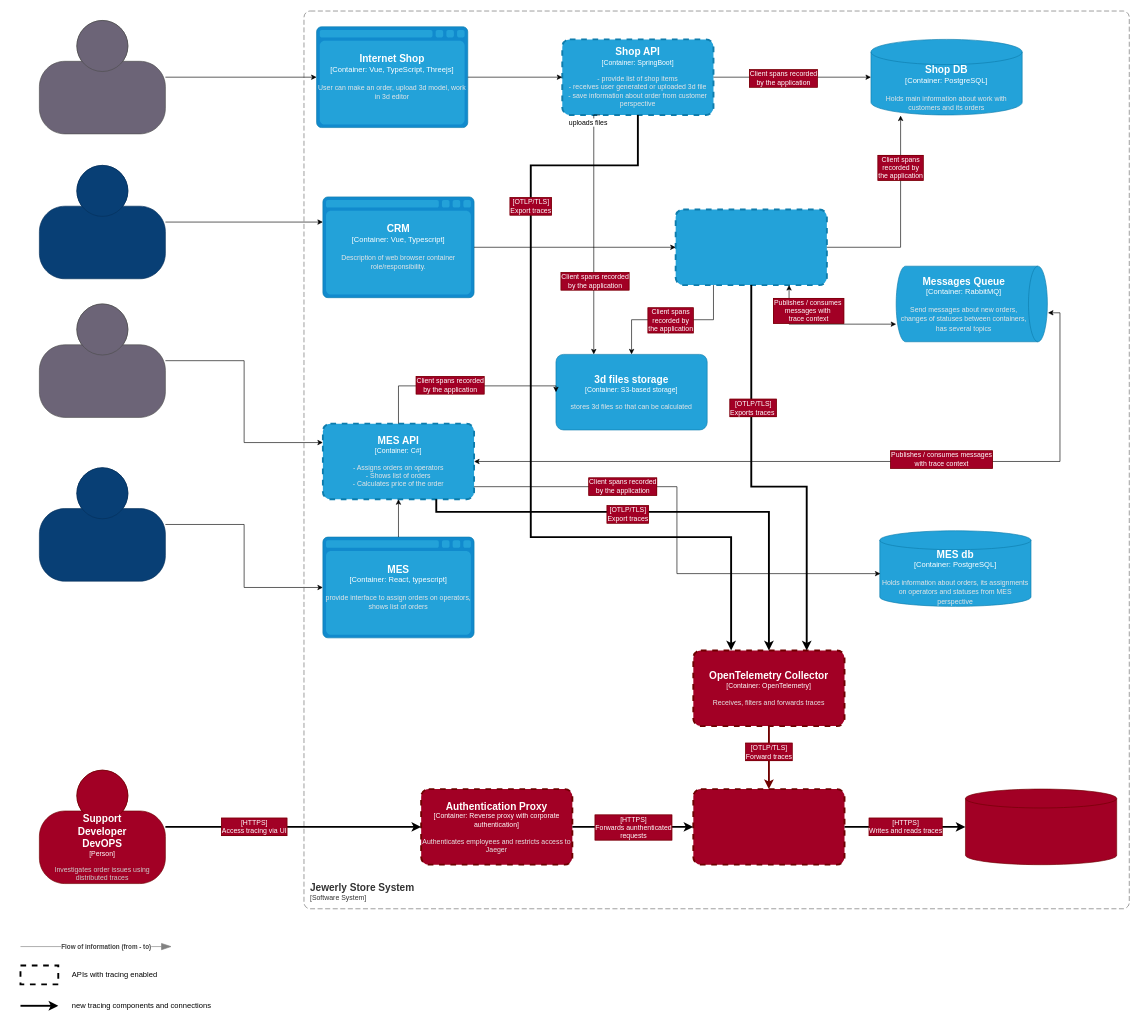
This 1140x1027 diagram has some shape labels left out. The shapes that lost their labels are listed below. From the top down, each one's centre as x and y in pixels, then its label:
At [102,77]: "Customer [Person] Description of external person.".
At [102,222]: "Seller [Person] Operates with order, confirms manufacturing for the user".
At [751,247]: "CRM API [Container: SpringBoot] Description of container role/responsibility.".
At [102,360]: "API user [Person] Description of external person.".
At [102,524]: "Operator [Person] Takes order in work, manufactures jewerly".
At [768,826]: "Jaeger [Container: Jaeger] Collects traces and provides search and visualization".
At [1041,826]: "Trace Storage [Container: ElasticSearch] Stores trace data".
